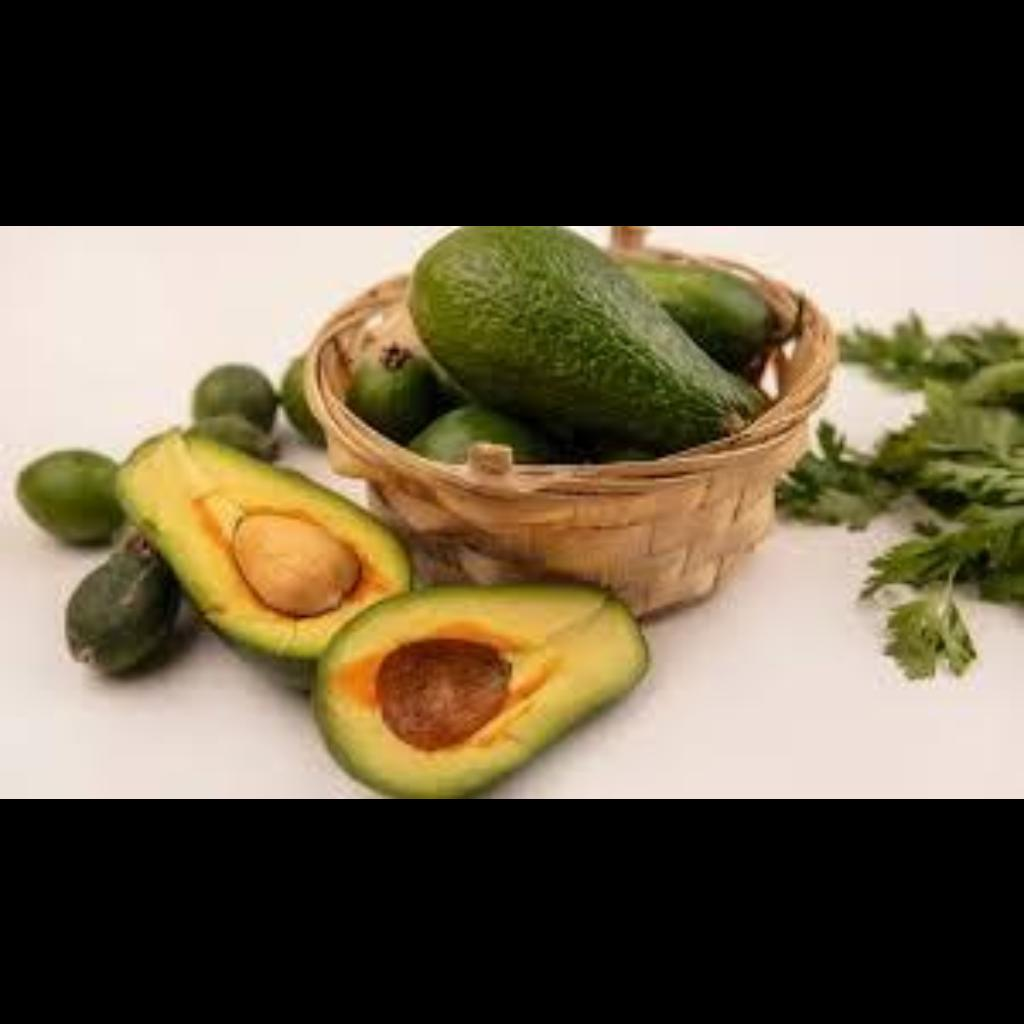Anthracnose: (454, 242, 704, 396), (67, 554, 169, 650)
